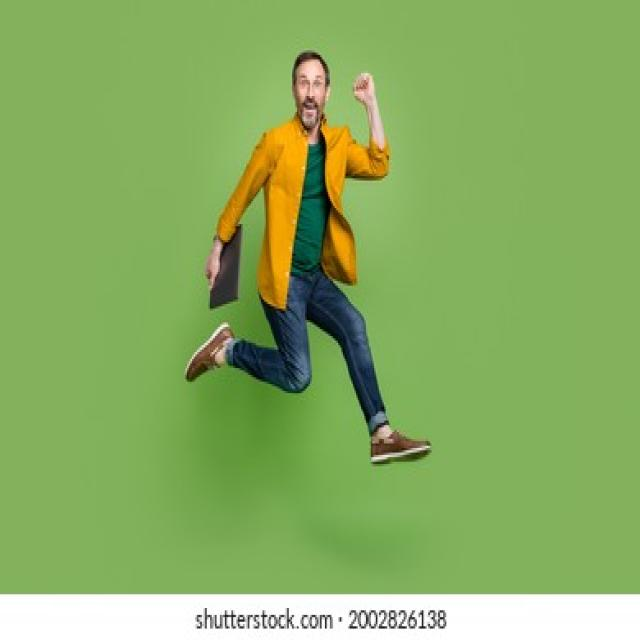running: (183, 48, 434, 468)
